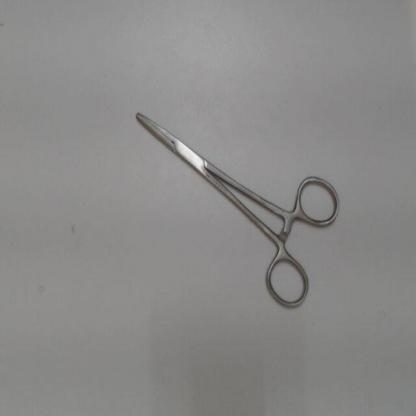Mayo Needle Holder: (126, 98, 348, 317)
